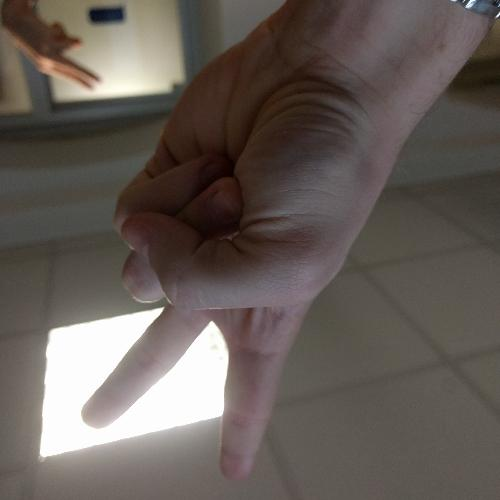scissors: (77, 18, 398, 488)
